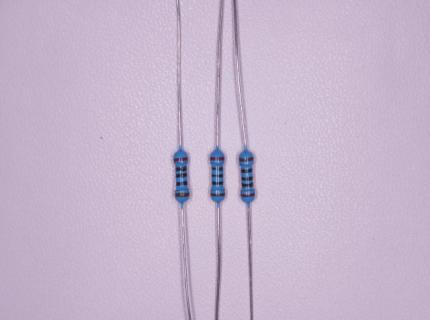Black band: (241, 176, 253, 182), (240, 168, 252, 174), (175, 166, 187, 172), (176, 181, 188, 187), (241, 183, 254, 188), (176, 173, 187, 178), (211, 167, 223, 171), (211, 174, 223, 178), (212, 181, 224, 185)
Brown band: (175, 192, 190, 198), (239, 156, 254, 162), (210, 193, 225, 198)
Red band: (240, 192, 256, 198), (173, 157, 188, 162), (210, 157, 225, 161)
